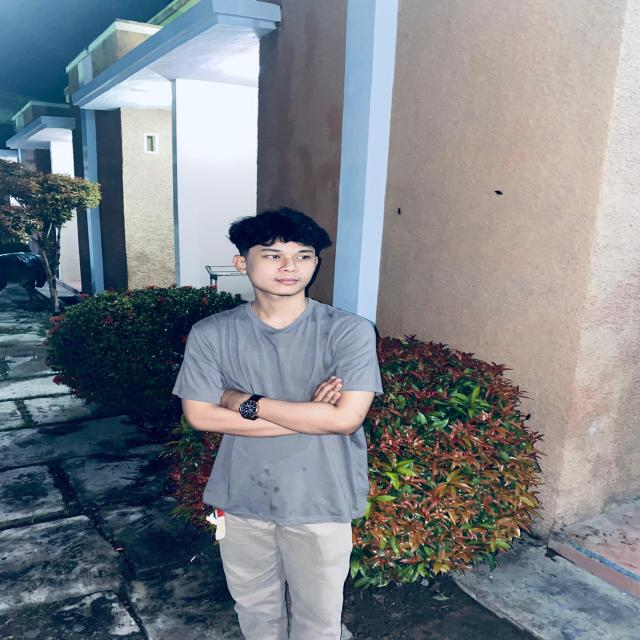nohelmet: (228, 204, 328, 304)
